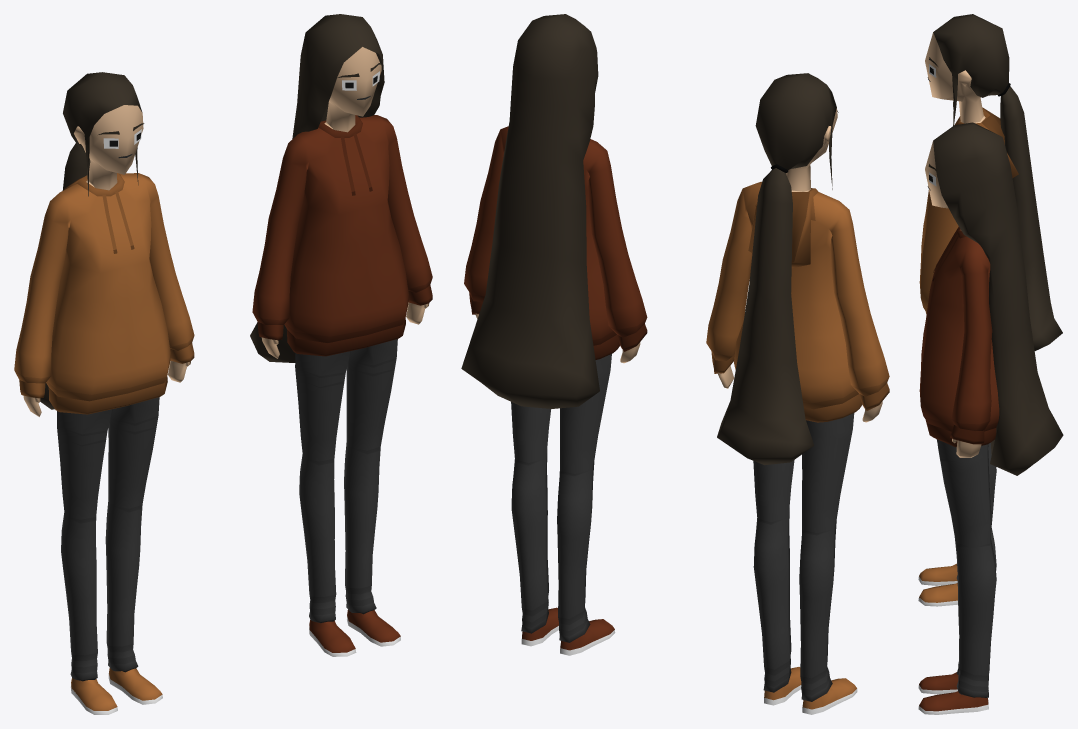
File: 2longhairgirl.glb
3 renders of one model, left to right at view 1: azimuth 30°, elevation 25°; view 2: azimuth 150°, elevation 25°; view 3: azimuth 270°, elevation 25°, orthographic. The views are drawn at different scales.
Visible parts, largest first — view 1: Body_0, Body.001_3, Plain.001_4, Ponytail_1; view 2: Body_0, Plain.001_4, Body.001_3, Ponytail_1; view 3: Body.001_3, Plain.001_4, Ponytail_1, Body_0.
Part boxes in pixels (x1,y1,x2,y2): Body_0: (14,105,194,714); Body.001_3: (252,47,432,656); Plain.001_4: (250,14,384,362); Ponytail_1: (40,72,142,409); Body_0: (706,108,889,714); Plain.001_4: (461,14,599,408); Body.001_3: (464,126,647,655); Ponytail_1: (717,73,836,465); Body.001_3: (918,141,999,714); Plain.001_4: (933,122,1063,475); Ponytail_1: (933,14,1062,350); Body_0: (918,32,1018,606).
Size of the model in its own units: 1.21 by 1.74 by 0.3993.
